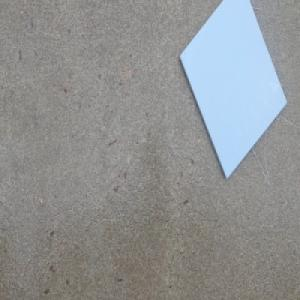PaintChip: (179, 0, 288, 179)
